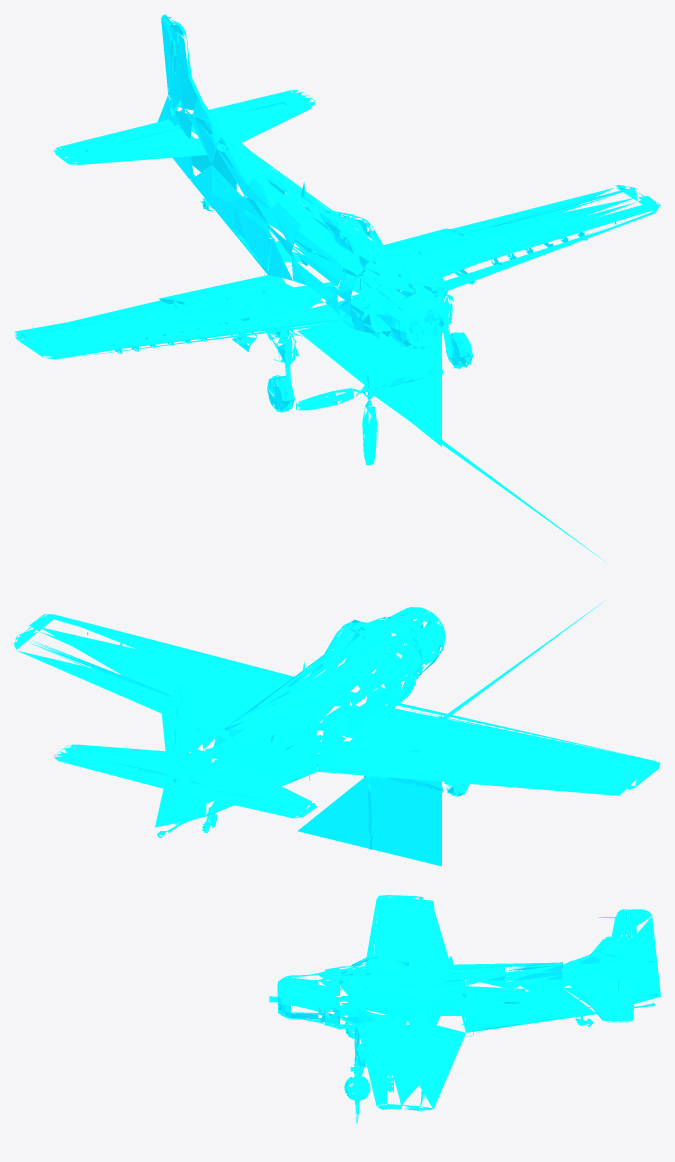
Rendered from PAAD110.glb.
3 renders of one model, top to bottom at view 1: azimuth 30°, elevation 25°; view 2: azimuth 150°, elevation 25°; view 3: azimuth 270°, elevation 25°, orthographic. The views are drawn at different scales.
Parts seen in each view (by area): view 1: misc; view 2: misc; view 3: misc.
Boxes of the visible parts, x1,y1,x2,y2 form: misc: [14, 14, 660, 562]; misc: [14, 600, 660, 866]; misc: [269, 895, 660, 1123].
Bounding box in the file's own units: 1.02 × 0.4759 × 1.3.
